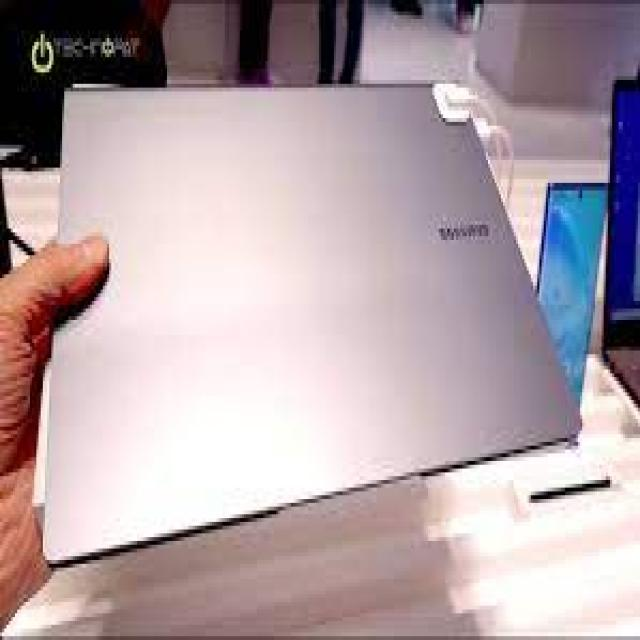laptop: (30, 80, 586, 564)
